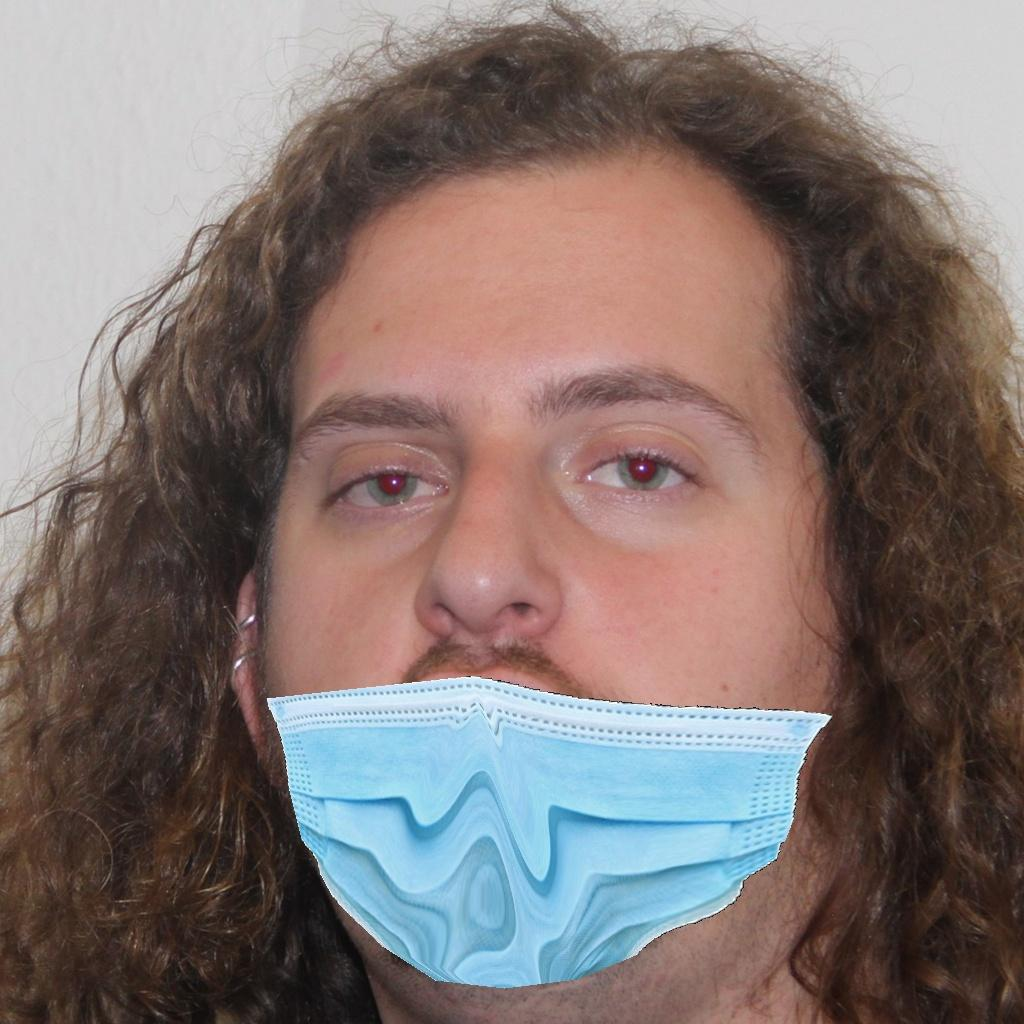Máscara Incorreta: (230, 313, 861, 988)
